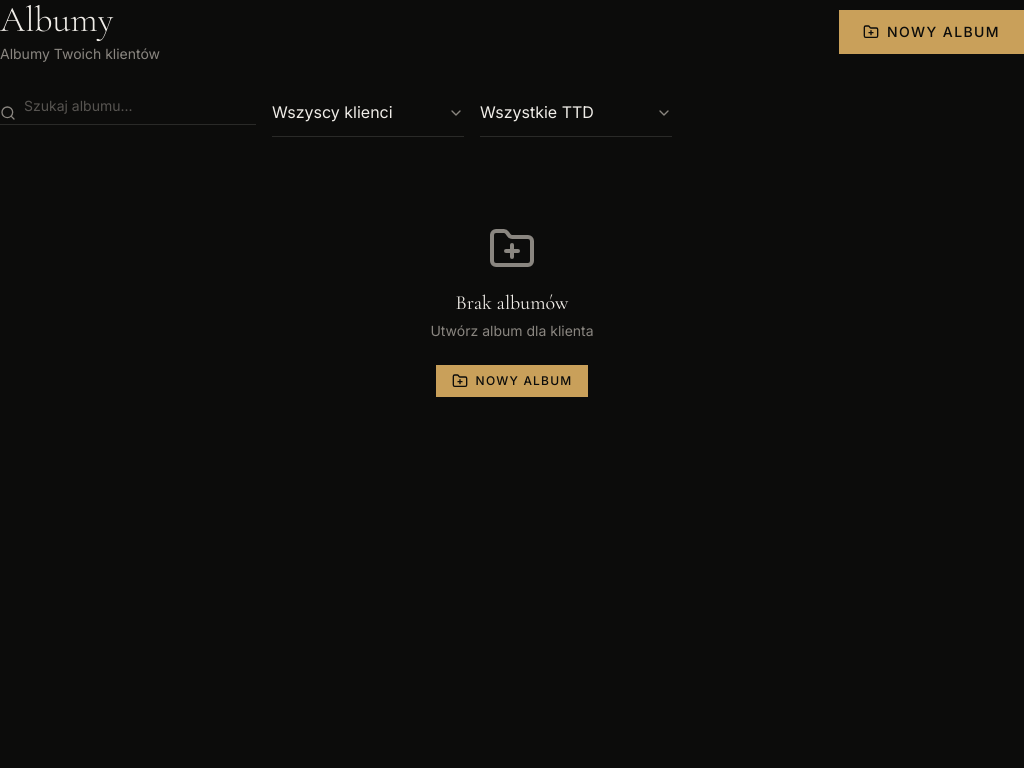
Scenario: PhotographerAlbums › Creating an album is blocked until both a client and a name are given, because an album cannot exist without an owner
This screenshot has width=1024, height=768.
Note: Pusta lista renderuje DRUGI przycisk "Nowy album" (EmptyState) - bierzemy ten z naglowka
Click the button "Nowy album" in the row of "Albumy Twoich klientów" at (932, 32), box [839,10,1023,54]
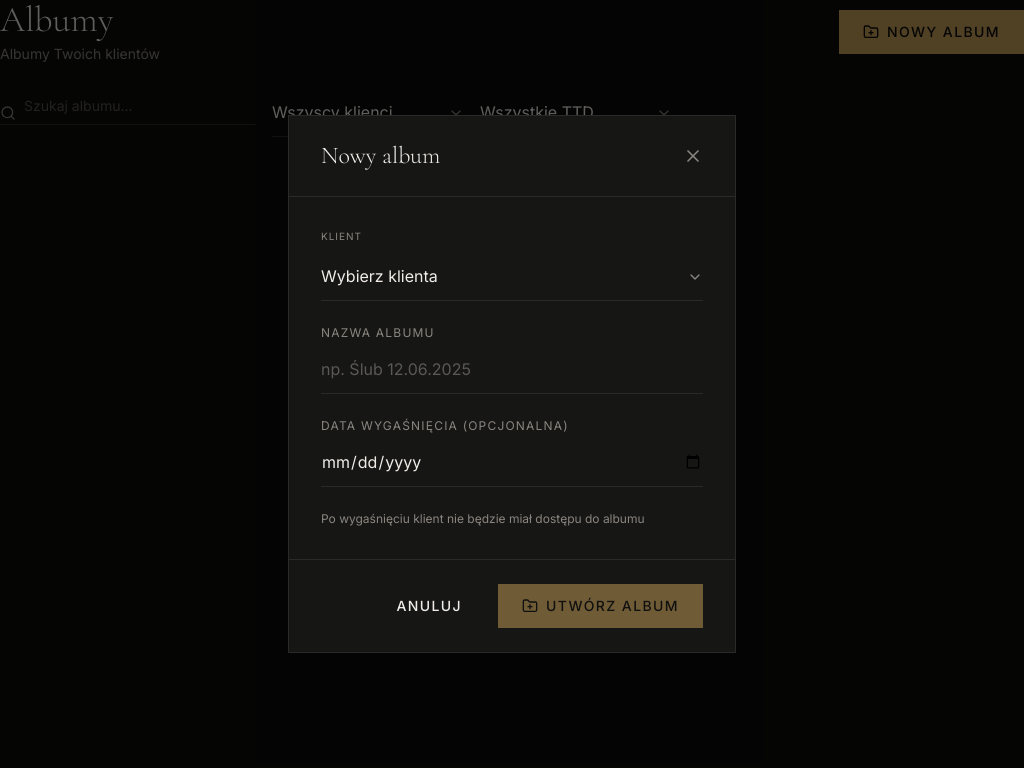
Expected: the button "Utwórz album" is disabled, [498,584,703,628]
Note: only a name is typed, still no client
Type "sesja" into the field labelled "Nazwa albumu" at (512, 370), box [321,345,703,394]
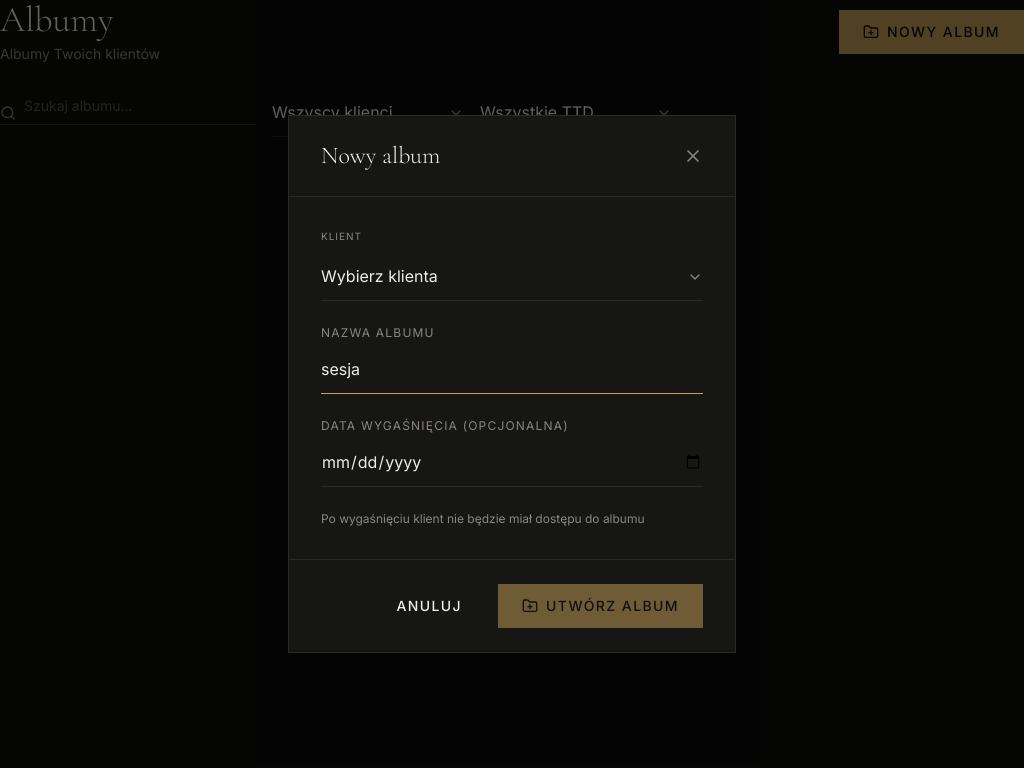
Expected: the button "Utwórz album" is disabled, [498,584,703,628]
Note: the client is picked as well
Select "Anna Kowalska (anna@example.com)" in the dropdown at (512, 276), box [321,252,703,301]
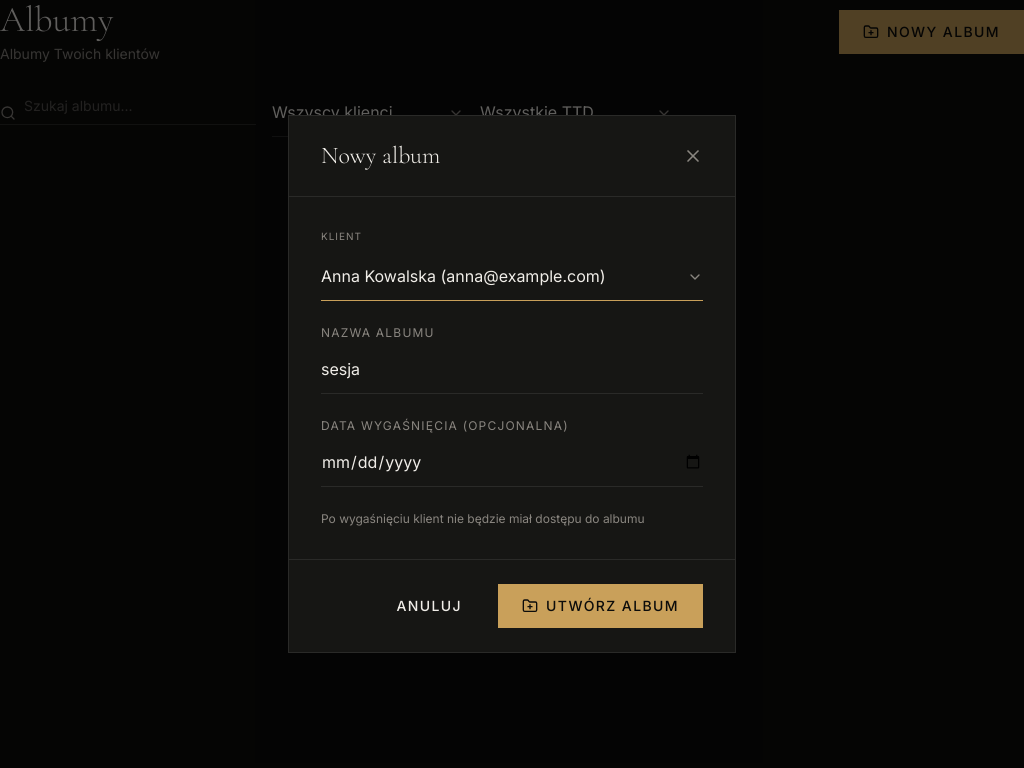
Expected: the button "Utwórz album" is enabled, [498,584,703,628]
